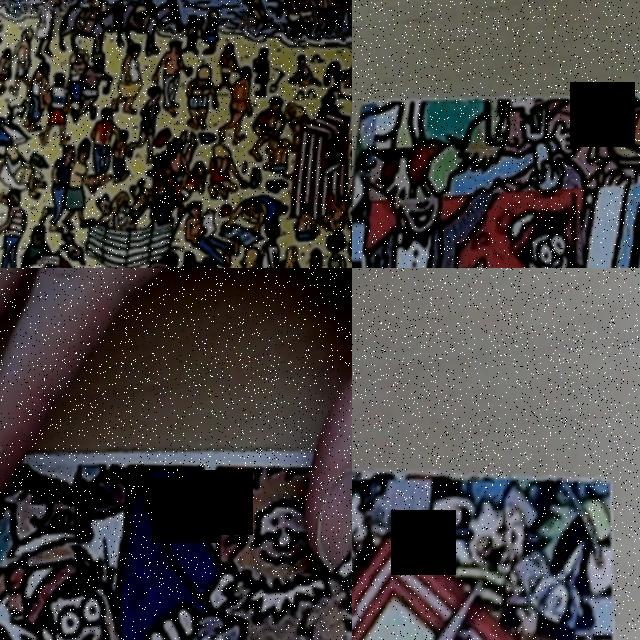waldo: (3, 541, 134, 640), (491, 194, 597, 268), (162, 155, 182, 185)
